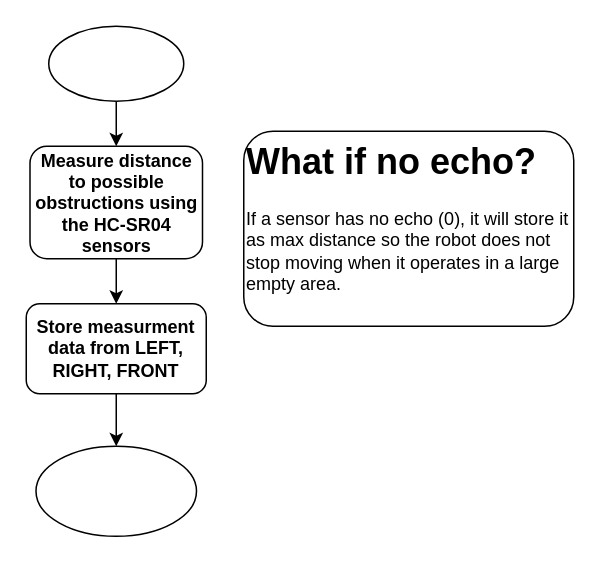
This 600x563 diagram has some shape labels left out. Each missing label, with the box of its shape:
Return to main loop: (34, 445, 196, 536)
Start: (47, 25, 184, 101)
